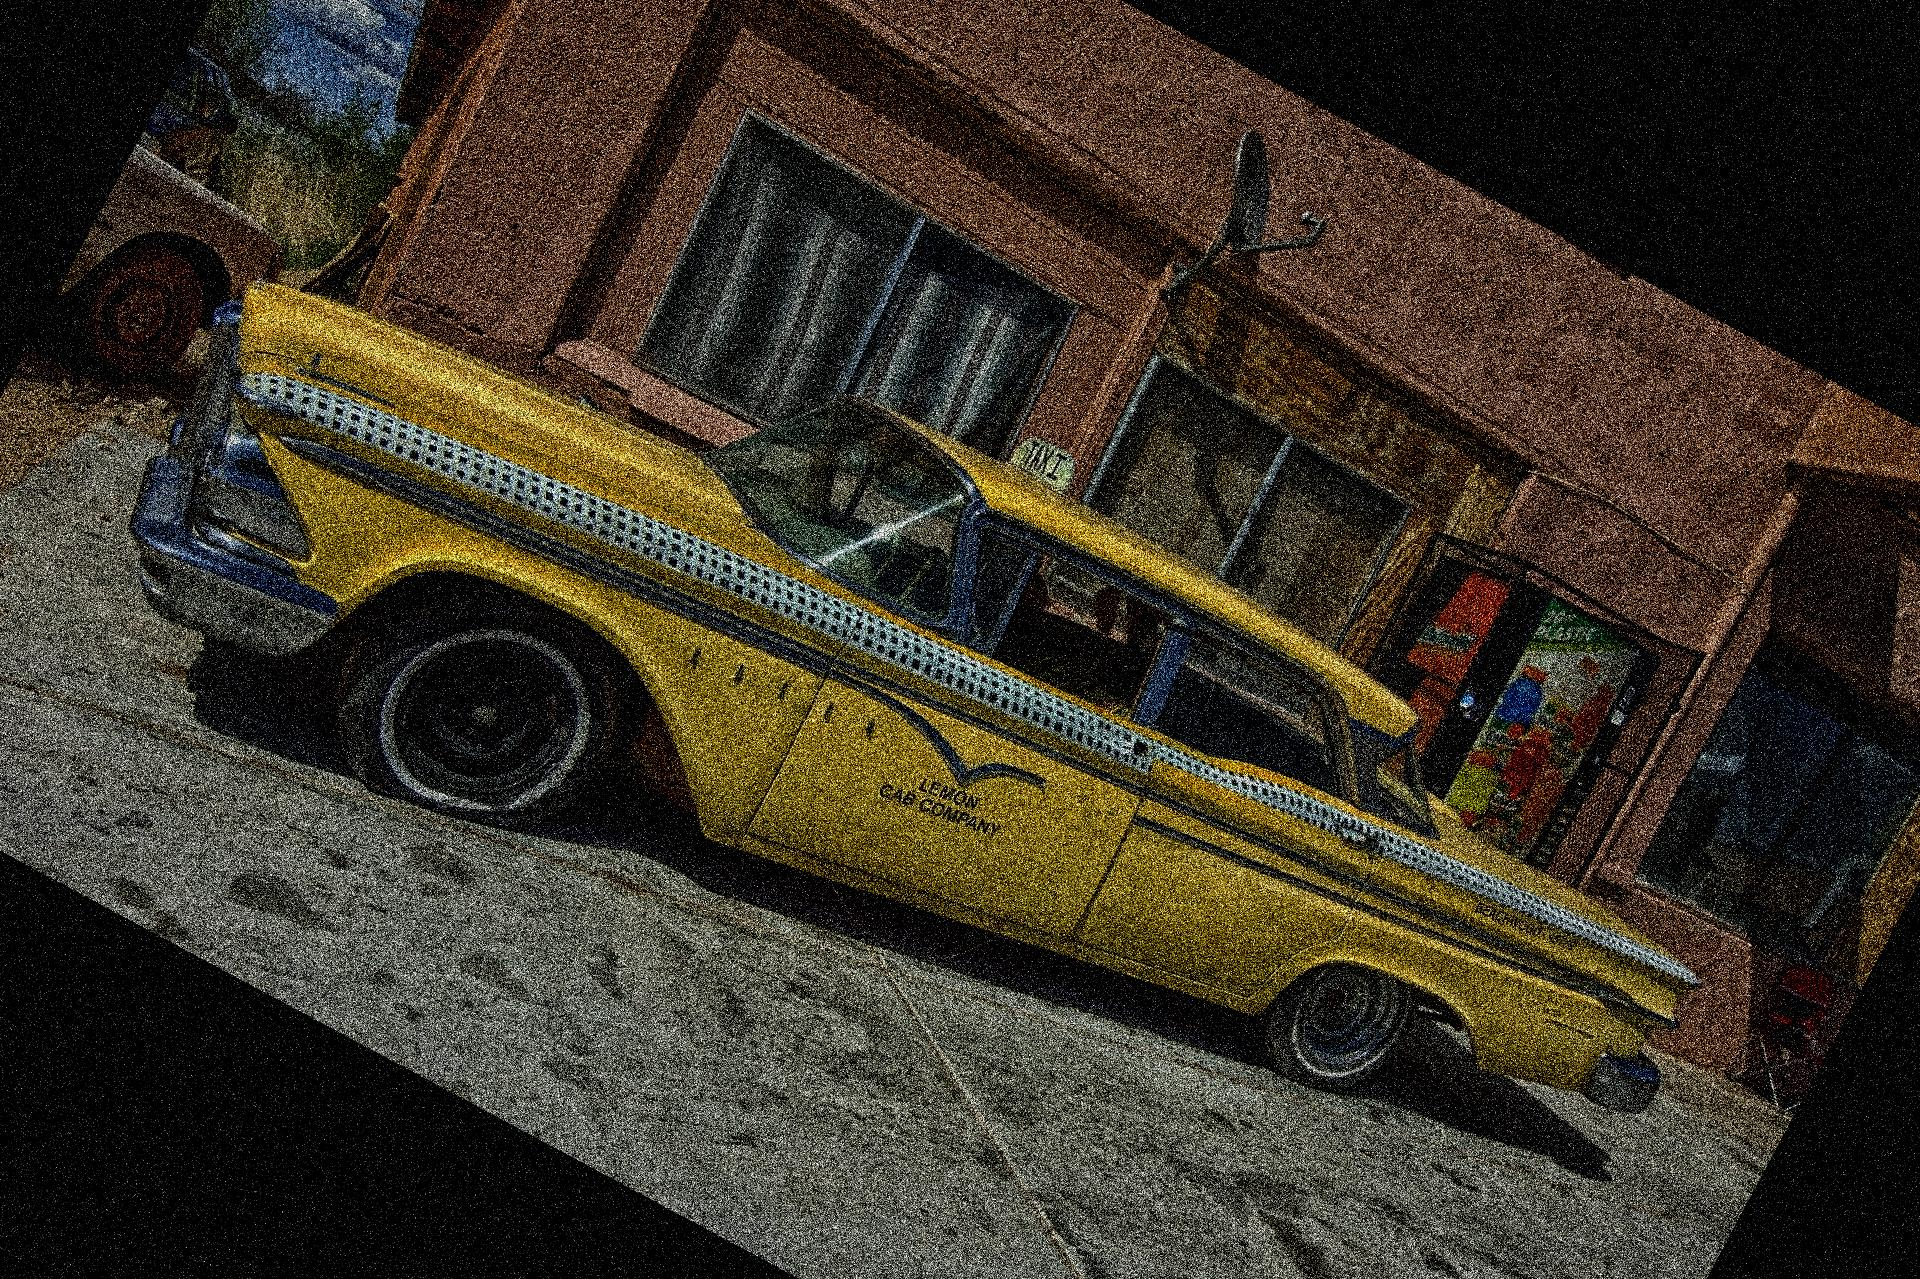taxi: (114, 270, 1697, 1143)
